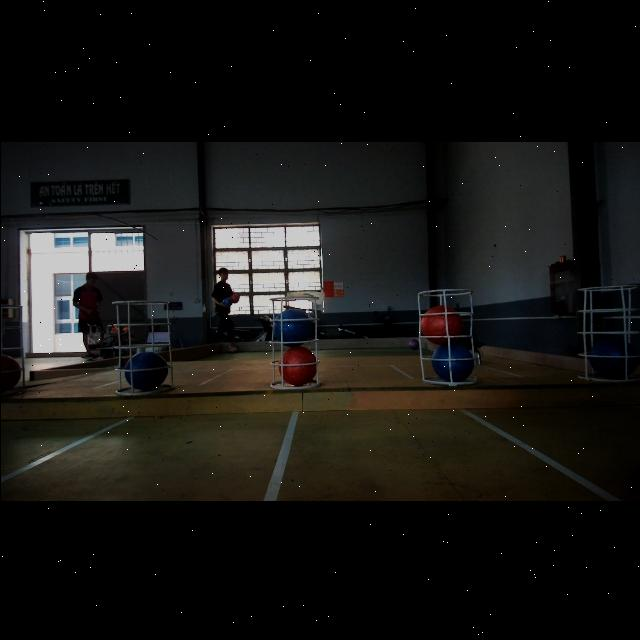B: (588, 337, 638, 377), (124, 349, 168, 391), (430, 342, 472, 380), (272, 306, 312, 344)
R: (274, 344, 316, 384), (421, 304, 462, 342), (1, 352, 20, 396)
